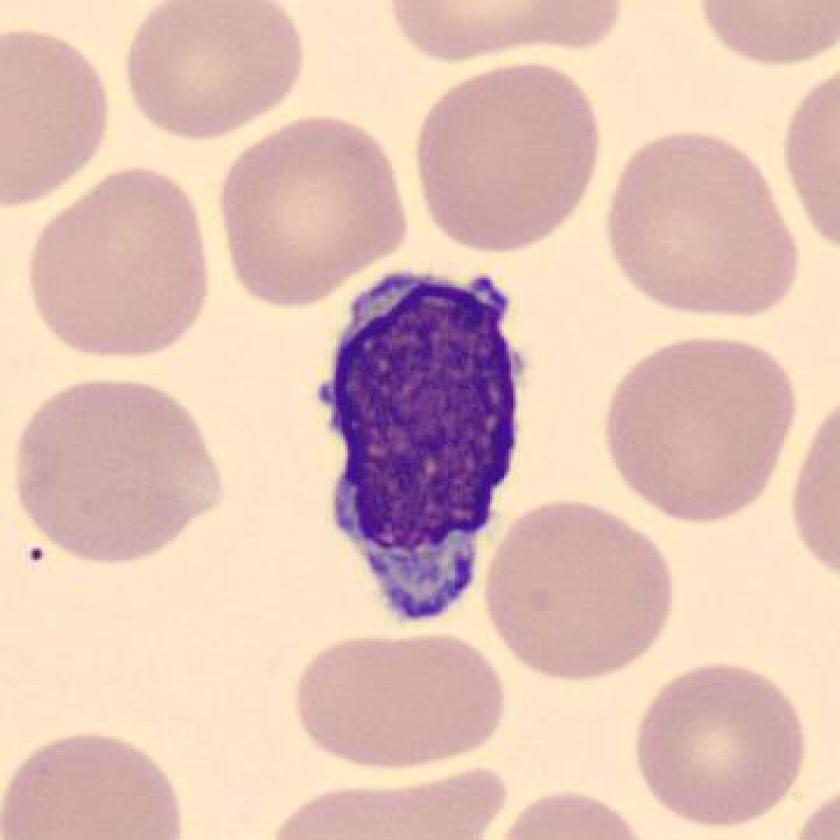lymphocyte: (295, 263, 552, 640)
